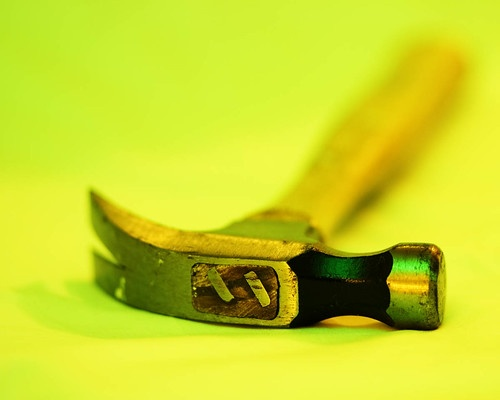hammer: (84, 43, 473, 334)
